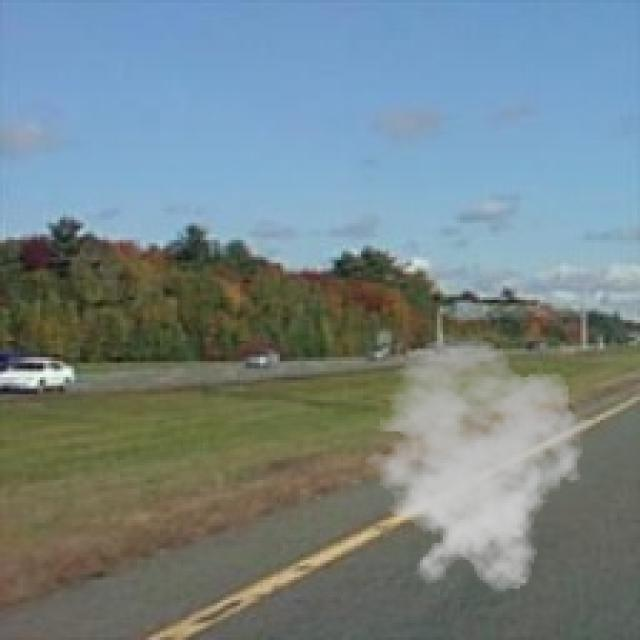smoke: (352, 334, 597, 594)
